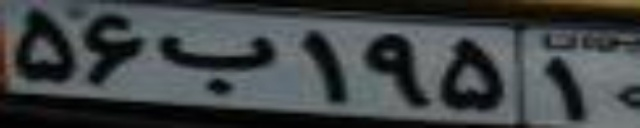0: (609, 83, 639, 111)
1: (299, 30, 349, 102), (543, 55, 585, 120)
5: (438, 38, 506, 109), (14, 3, 75, 82)
6: (80, 13, 142, 84)
9: (365, 33, 428, 107)
be: (156, 34, 278, 95)
